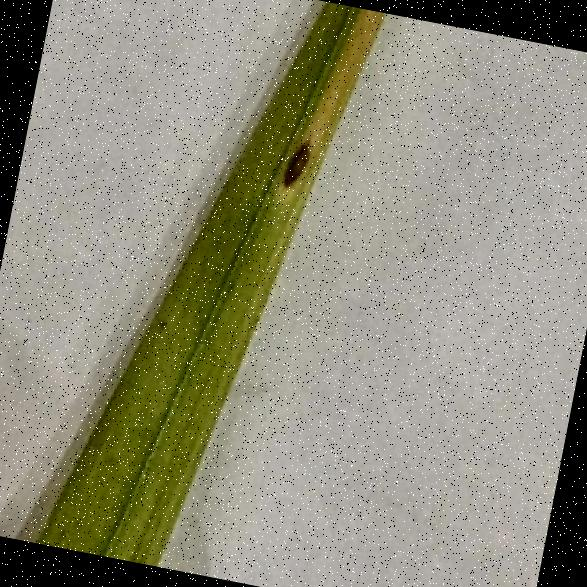Leaf_smut: (249, 114, 324, 204)
